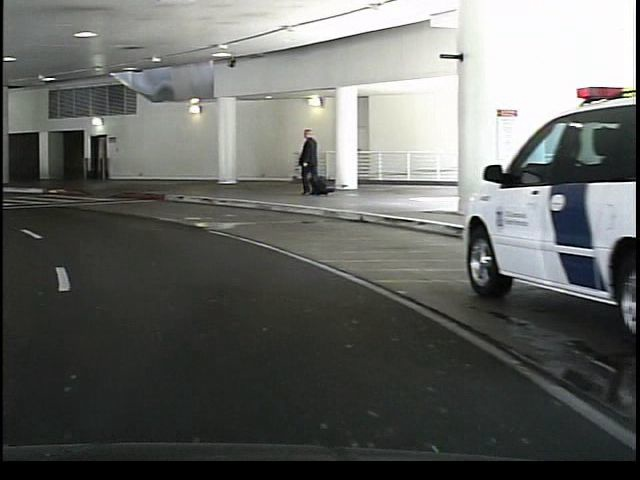person: (290, 127, 327, 203)
